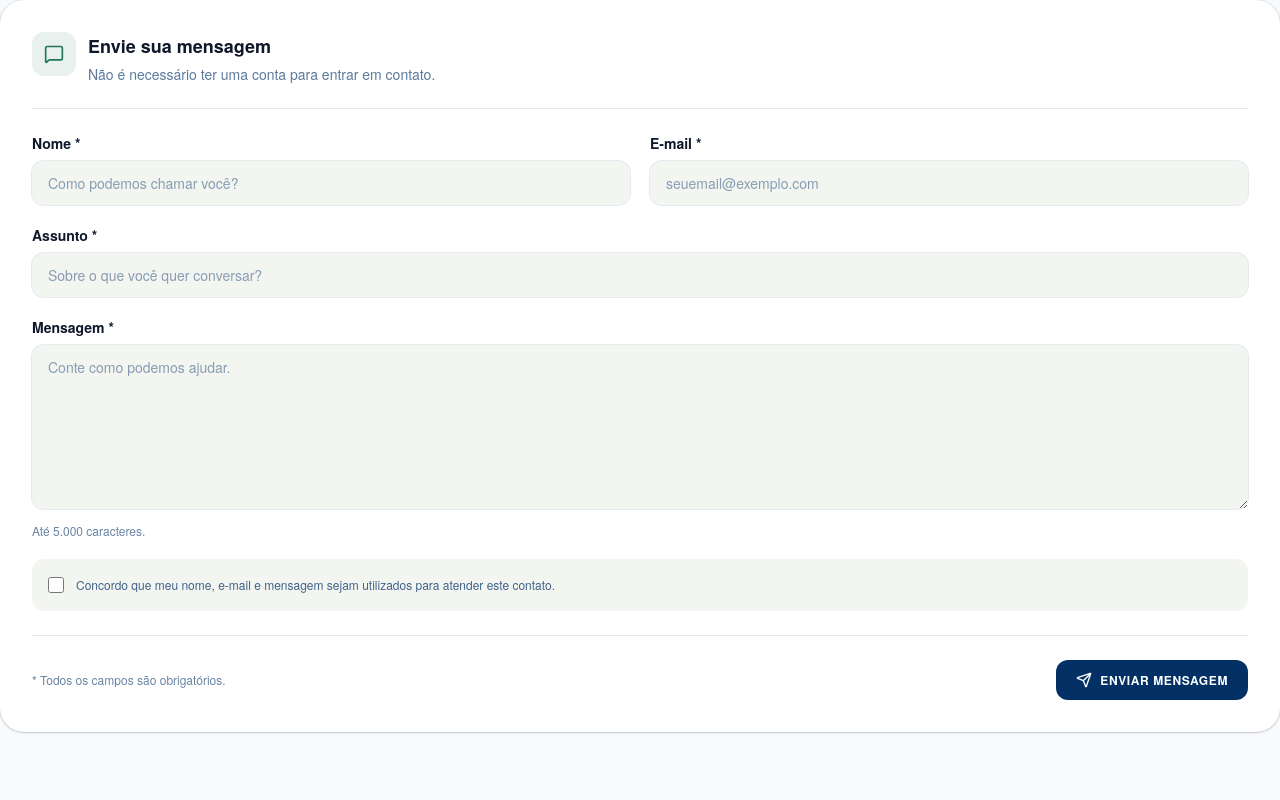
it: valida campos obrigatórios e autorização antes de chamar a API
Click the button "Enviar mensagem": [1152, 680] box [1056,660,1248,700]
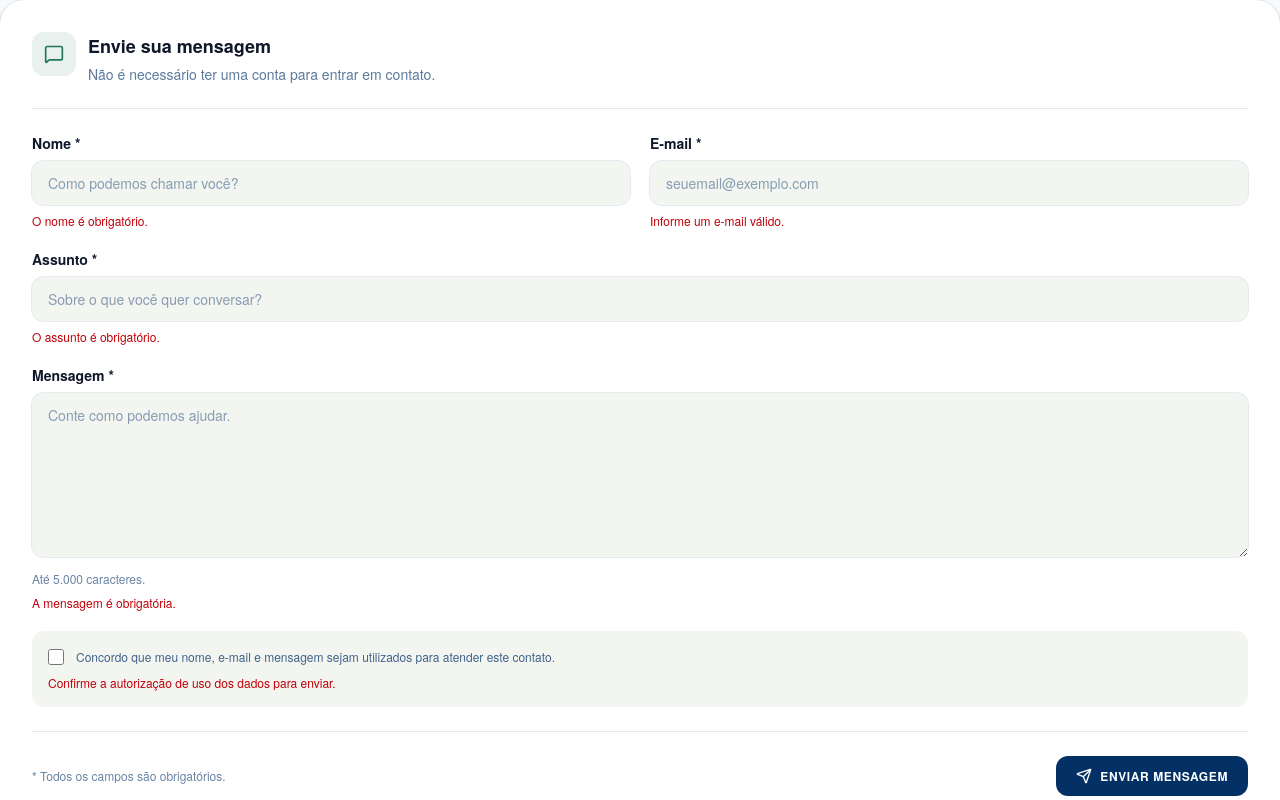
Expected: the number of messages is 5, [32,212,148,229]; [650,212,784,229]; [32,328,160,345]; [32,594,176,611]; [48,674,336,690]
